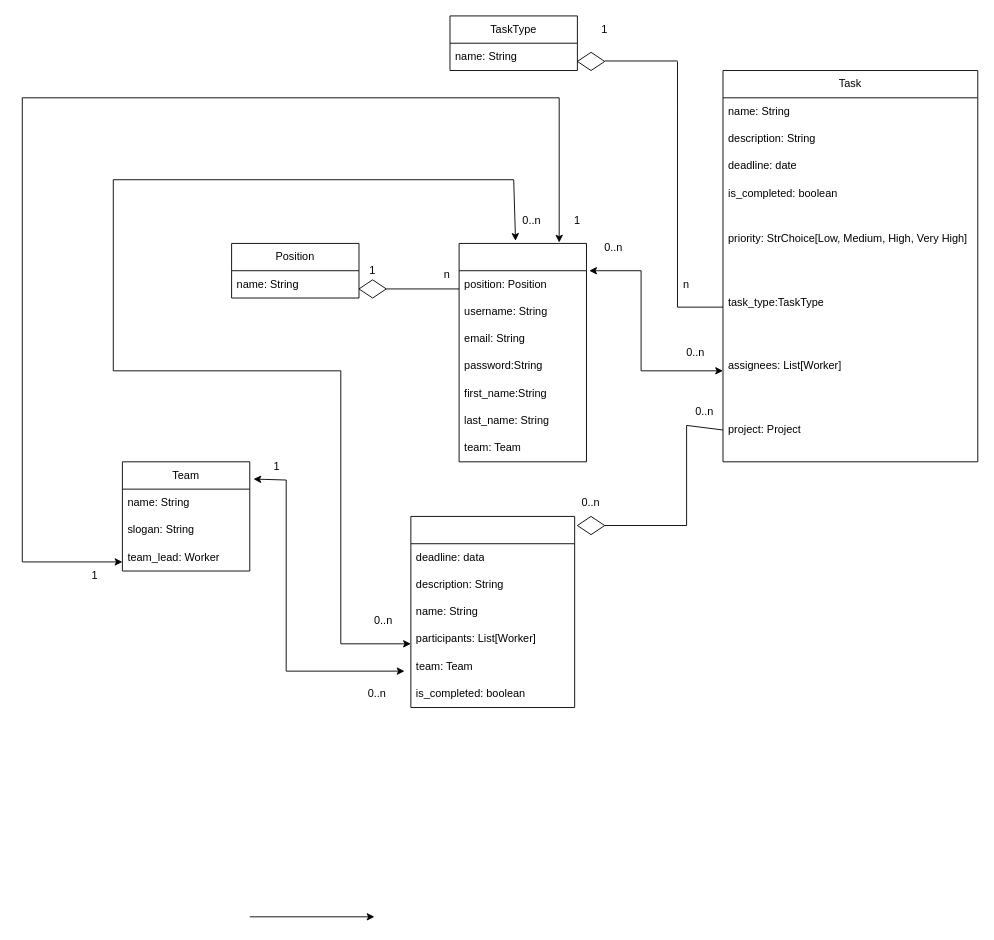
Image size: 994x940. Some labels were removed from this diagram. The shapes that lost their labels are listed below. From the top down, each one's box as (x1, y1, x2, y2) in pixels, then its label:
(458, 243, 586, 462): Worker(AbstractUser)
(410, 516, 575, 708): Project
